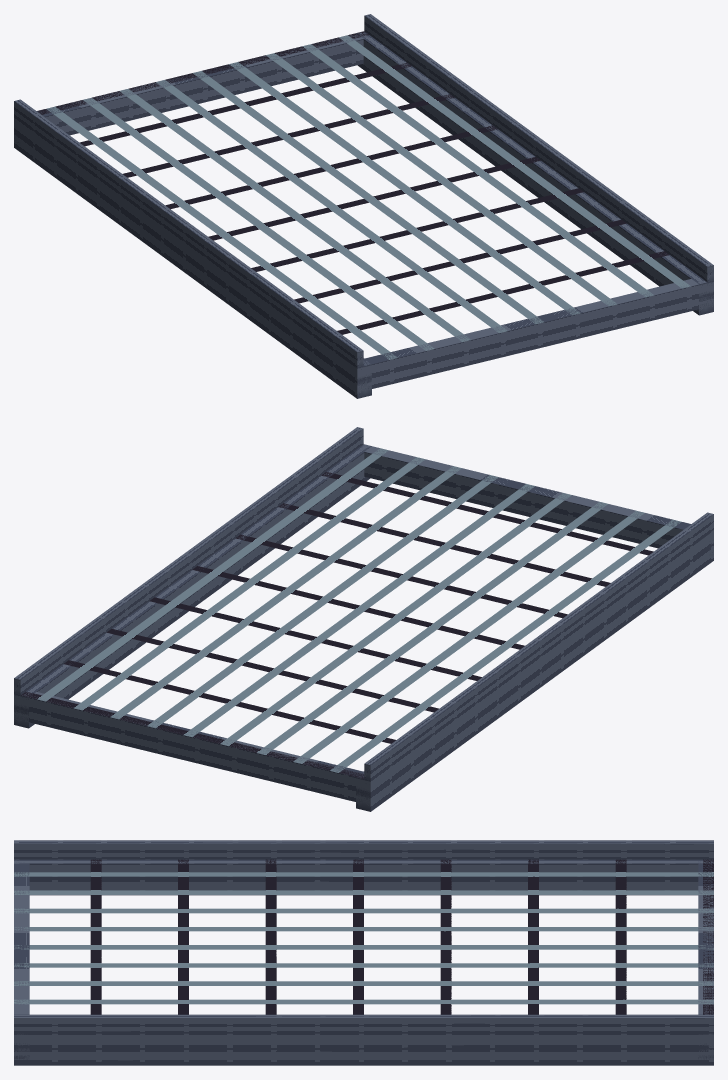
File: IND-05_Pasarela_recta.gltf
3 views of the same model, one above another, from view 1: azimuth 30°, elevation 25°; view 2: azimuth 150°, elevation 25°; view 3: azimuth 270°, elevation 25° (orthographic).
Visible parts, largest first — view 1: IND-05_Pasarela_recta-col; view 2: IND-05_Pasarela_recta-col; view 3: IND-05_Pasarela_recta-col.
Boxes of the visible parts, bbox=[...] form: IND-05_Pasarela_recta-col: bbox=[14, 14, 713, 398]; IND-05_Pasarela_recta-col: bbox=[14, 427, 713, 811]; IND-05_Pasarela_recta-col: bbox=[14, 840, 713, 1065].
Size of the model in its own units: 1.2 by 0.15 by 2.
1 material, 1 textured.
